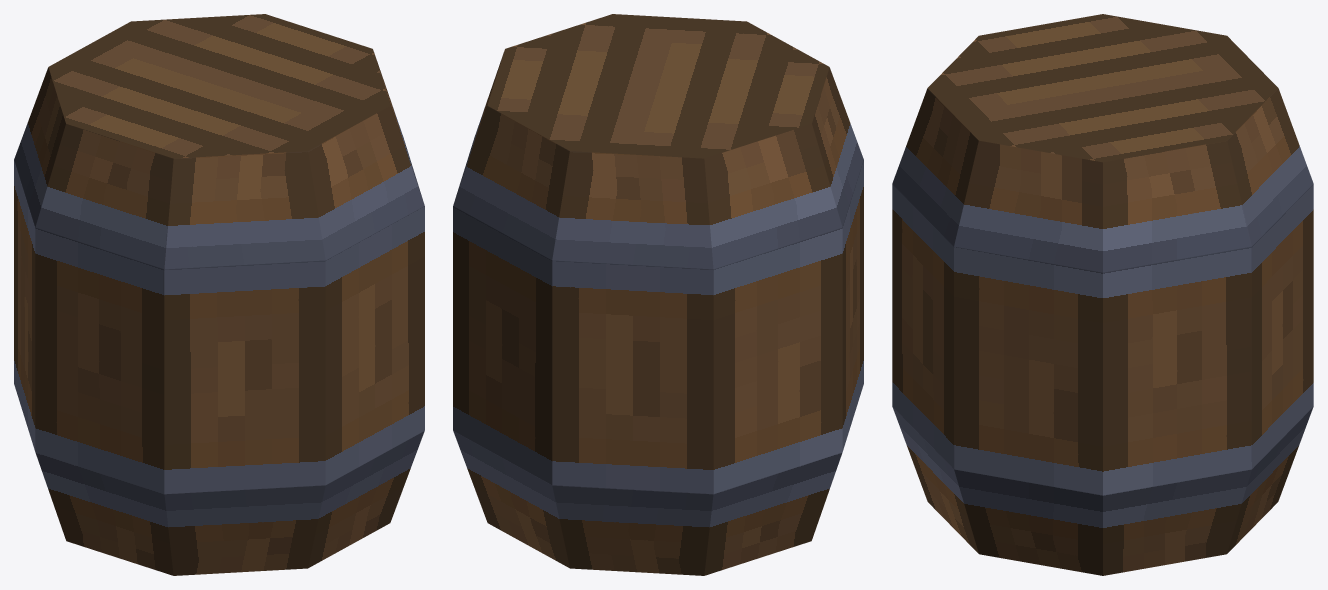
File: barell.fbx
3 views of the same model, side by side, from view 1: azimuth 30°, elevation 25°; view 2: azimuth 150°, elevation 25°; view 3: azimuth 270°, elevation 25° (orthographic).
Parts seen in each view (by area): view 1: Barrel; view 2: Barrel; view 3: Barrel.
Boxes of the visible parts, x1,y1,x2,y2 form: Barrel: (14,14,424,575); Barrel: (453,14,863,575); Barrel: (892,14,1313,575).
Bounding box in the file's own units: 0.96 × 1.04 × 0.96.
